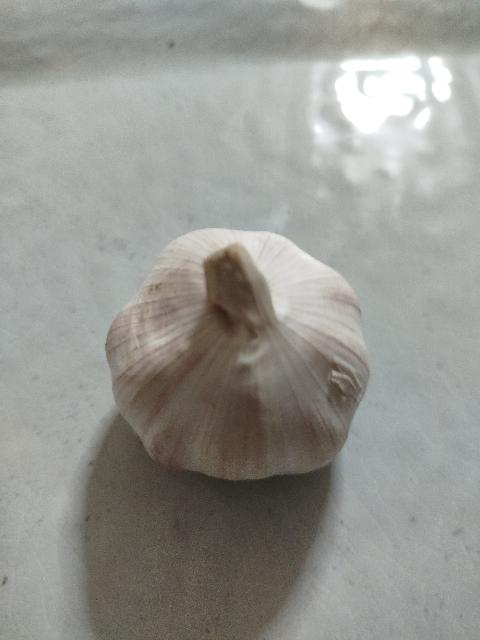garlic: (104, 227, 370, 481)
